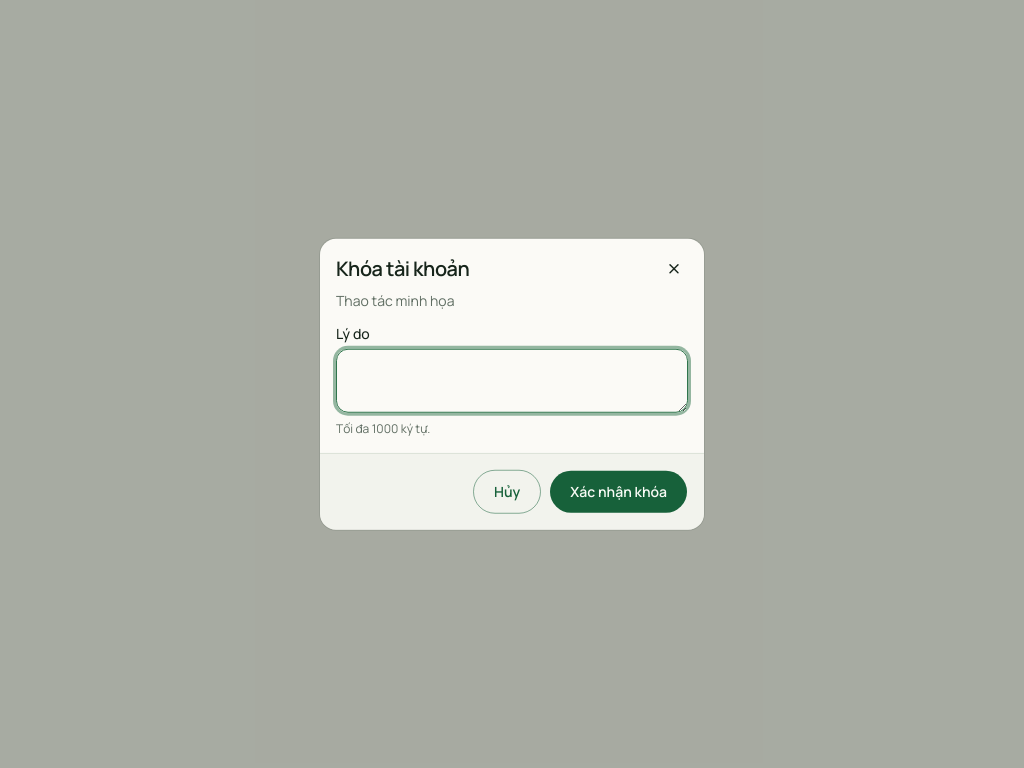
Test: Admin action confirmation › keeps the dialog open after failure and allows retry
Type "Kiểm tra" into the text box at coordinates (512, 380), box [336, 348, 688, 412]
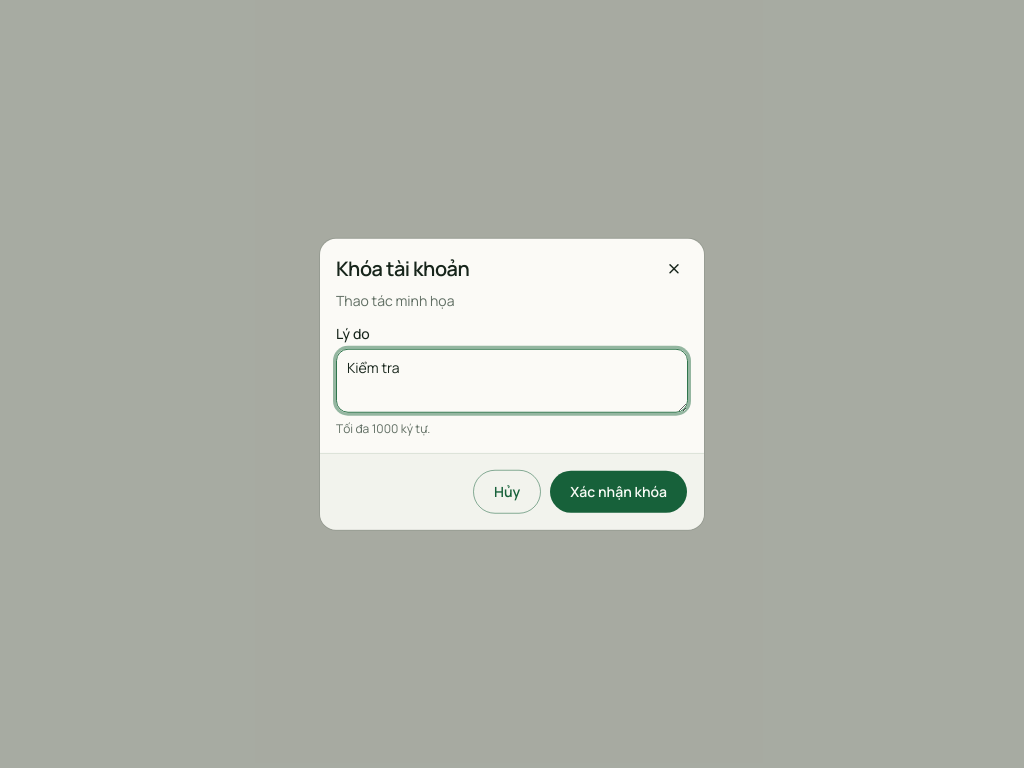
Click the button "Xác nhận khóa" at coordinates (619, 491), box [549, 469, 688, 513]
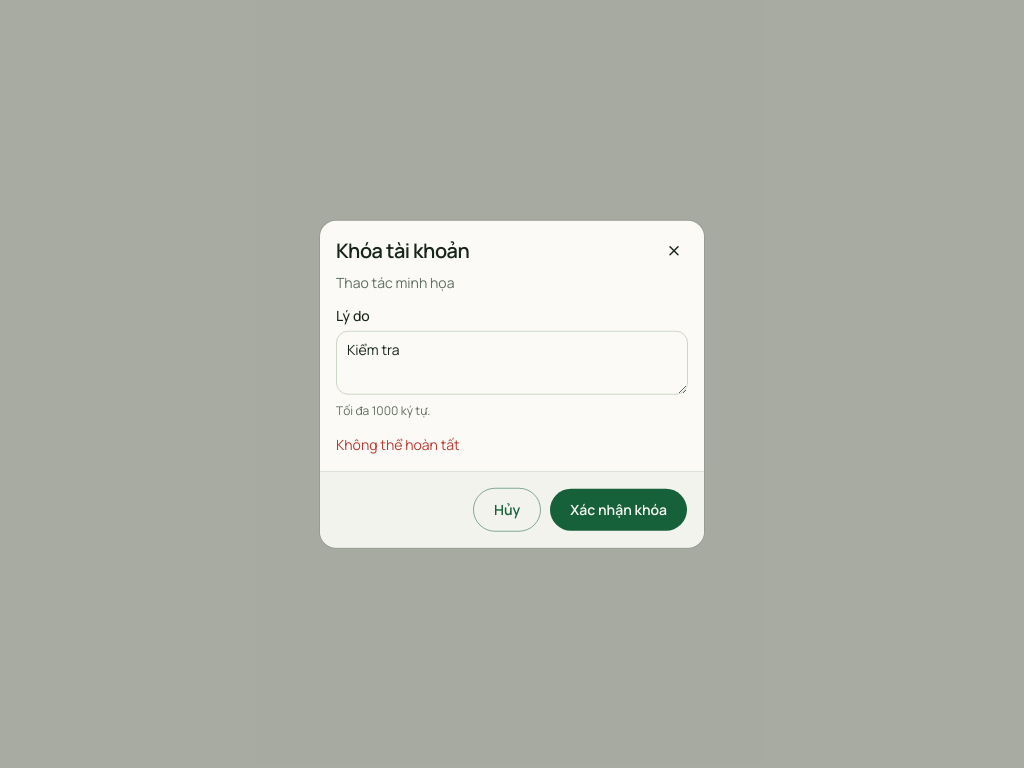
Check: the message reads "Không thể hoàn tất", box [336, 434, 460, 453]
Click the button "Xác nhận khóa" at coordinates (619, 509), box [549, 487, 688, 531]
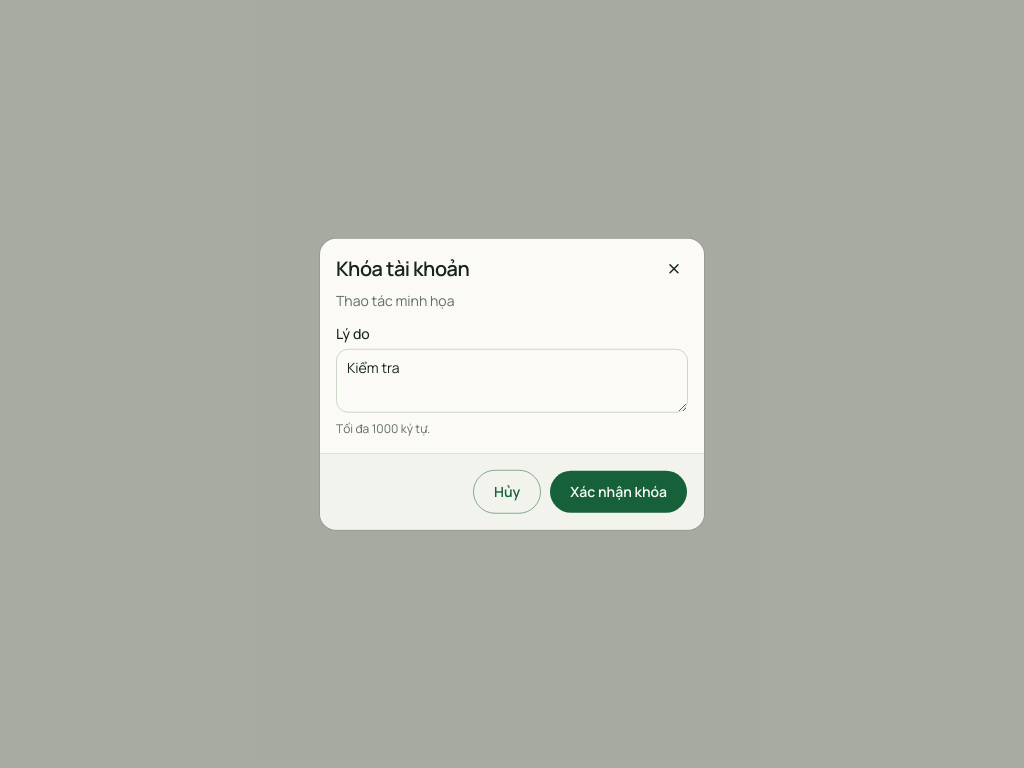
Check: the message "Không thể hoàn tất" is gone
